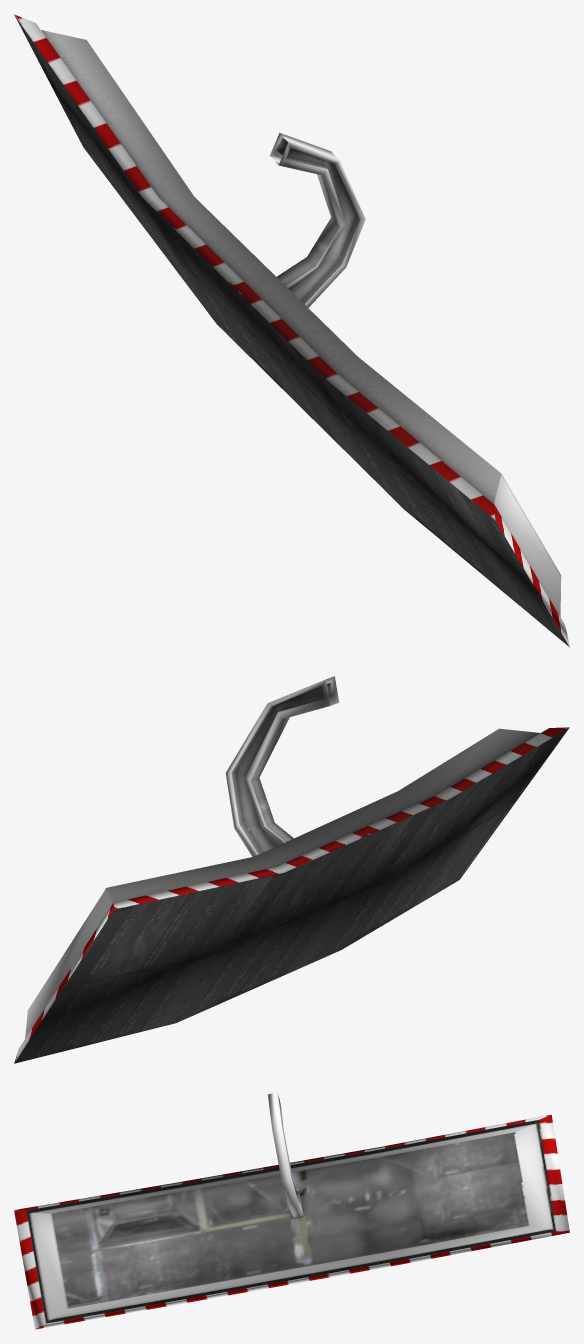
The model's file is noseGearDoor.fbx.
3 views of the same model, one above another, from view 1: azimuth 30°, elevation 25°; view 2: azimuth 150°, elevation 25°; view 3: azimuth 270°, elevation 25° (orthographic). The views are drawn at different scales.
Visible parts, largest first — view 1: NoseGearDoor; view 2: NoseGearDoor; view 3: NoseGearDoor.
Part boxes in pixels (bbox=[...]): NoseGearDoor: bbox=[14, 14, 569, 647]; NoseGearDoor: bbox=[14, 676, 569, 1063]; NoseGearDoor: bbox=[14, 1092, 569, 1329].
Size of the model in its own units: 1.87 by 4.65 by 10.86.
